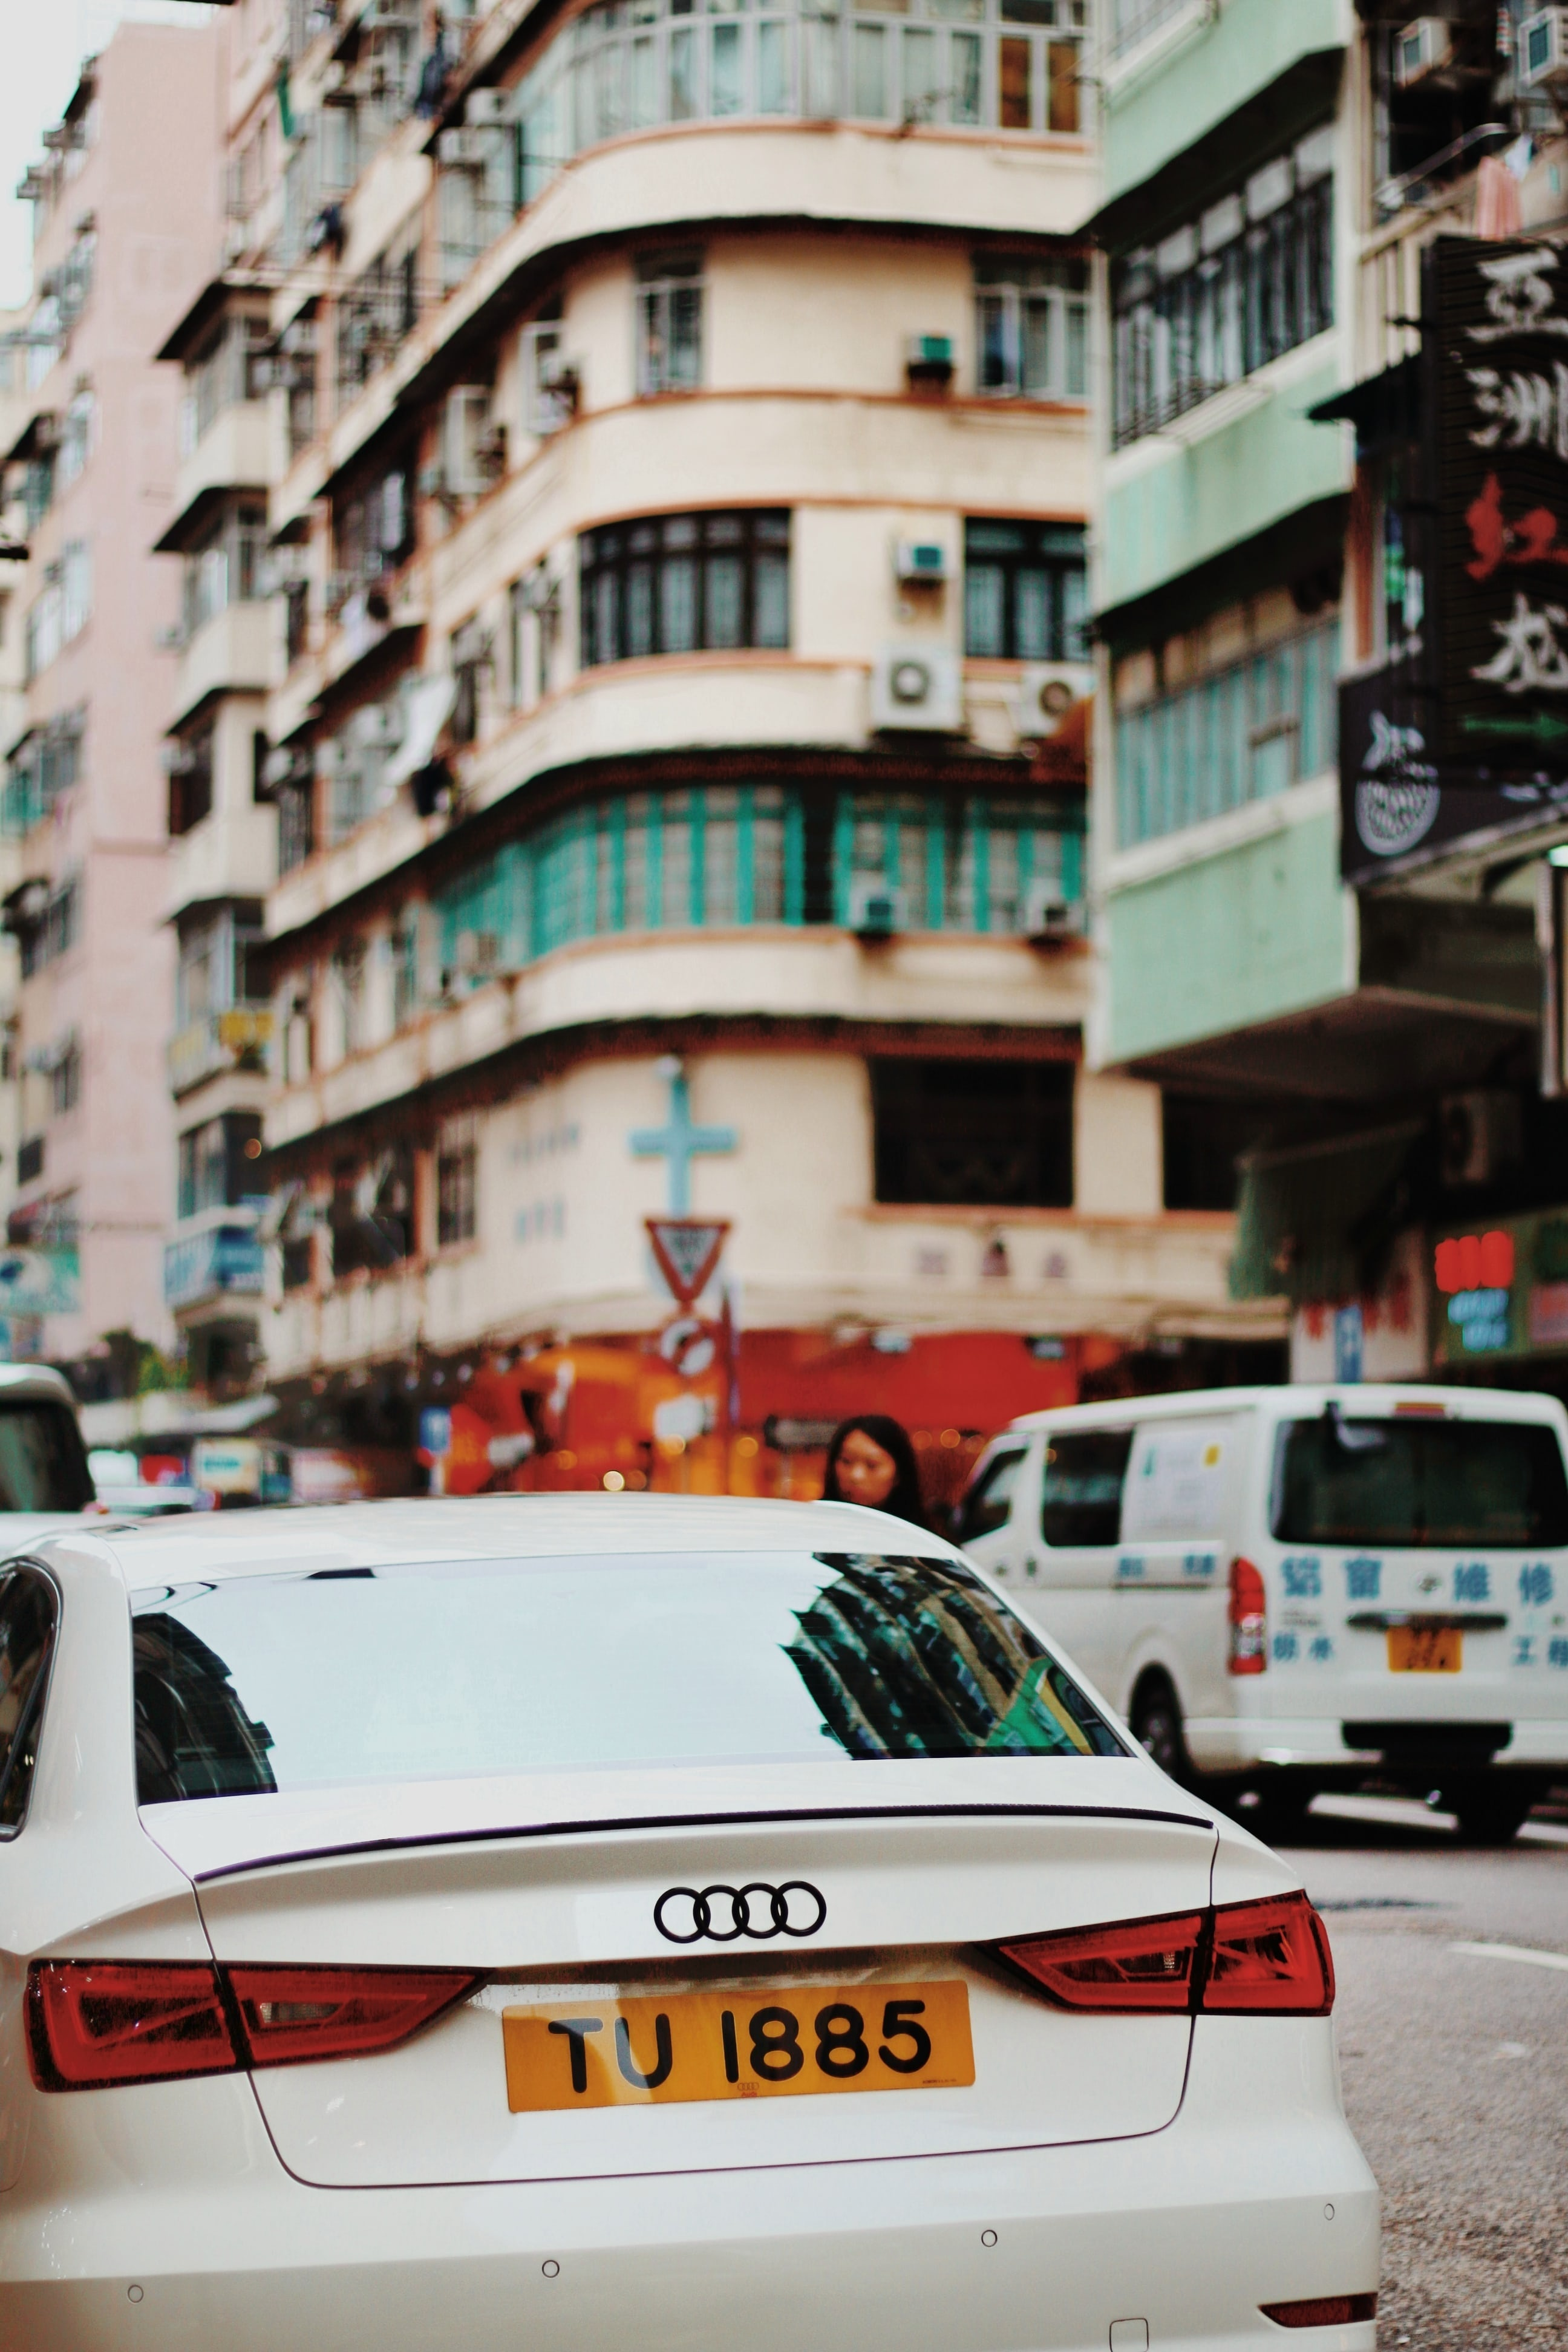plaka: (502, 1965, 986, 2112)
